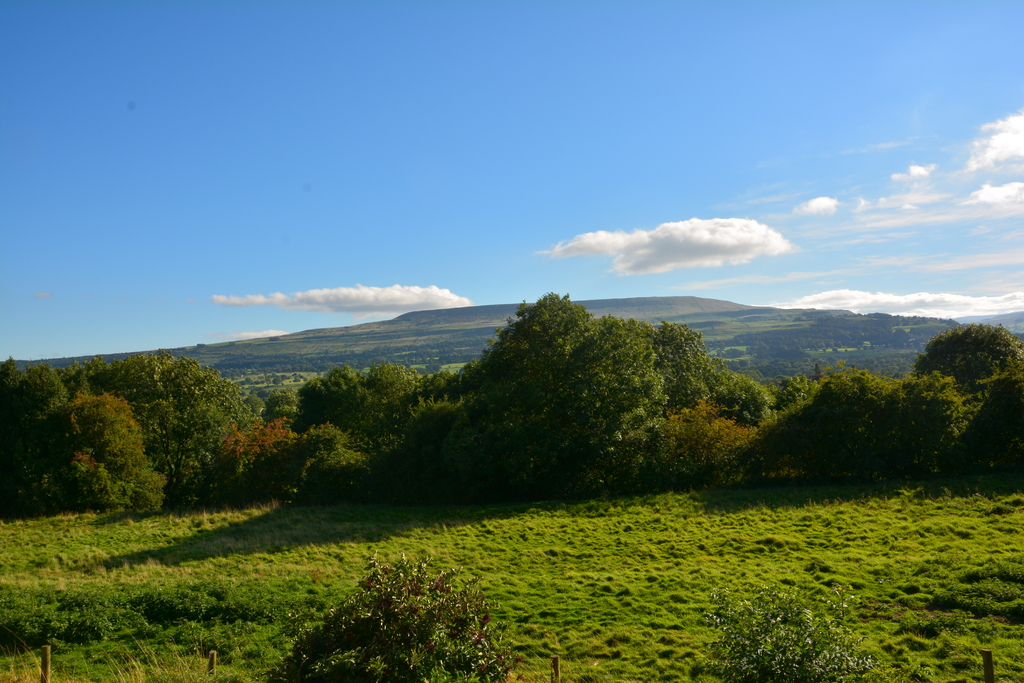Tree: (3, 288, 1023, 508), (267, 545, 516, 682), (17, 388, 162, 513), (693, 584, 869, 682), (917, 324, 1023, 381)
